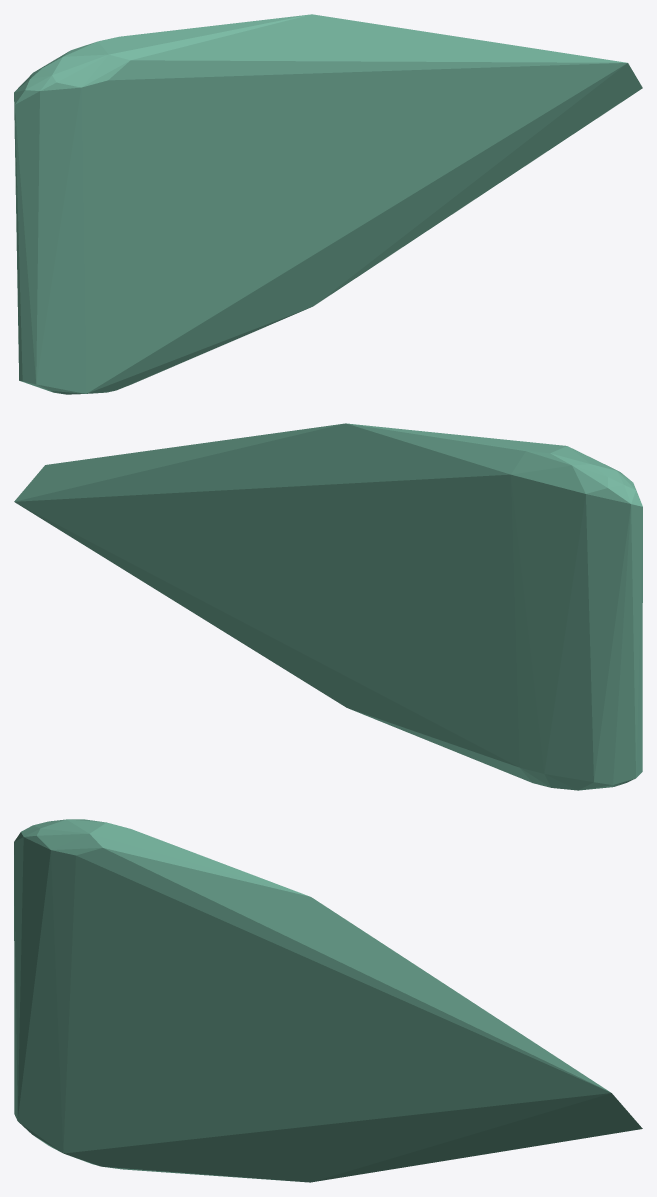
Rendered from instrument_adams_pliers_b01.glb.
The picture shows the model from 3 angles, top to bottom: view 1: azimuth 30°, elevation 25°; view 2: azimuth 150°, elevation 25°; view 3: azimuth 330°, elevation 25°; orthographic projection. The views are drawn at different scales.
Visible parts, largest first — view 1: geometry_0; view 2: geometry_0; view 3: geometry_0.
Boxes of the visible parts, bbox=[...] form: geometry_0: bbox=[14, 14, 642, 394]; geometry_0: bbox=[14, 423, 642, 790]; geometry_0: bbox=[14, 819, 642, 1182].
Size of the model in its own units: 0.4766 by 0.2453 by 0.0389.
